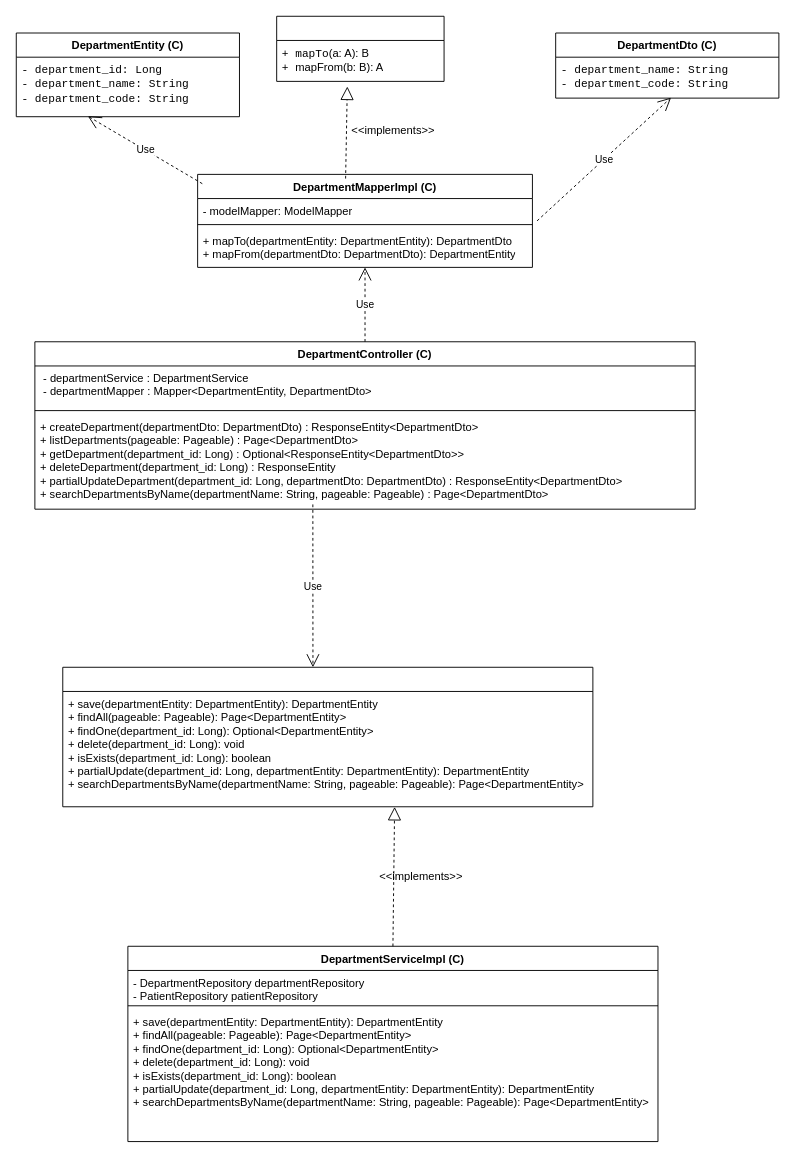
Image size: 795x1161. Some labels were removed from this diagram. The shapes that lost their labels are listed below. From the top down, each one's box as (x1, y1, x2, y2) in pixels, then its label:
(276, 15, 444, 81): Mapper <A, B> (I)
(62, 666, 593, 807): DepartmentService (I)
